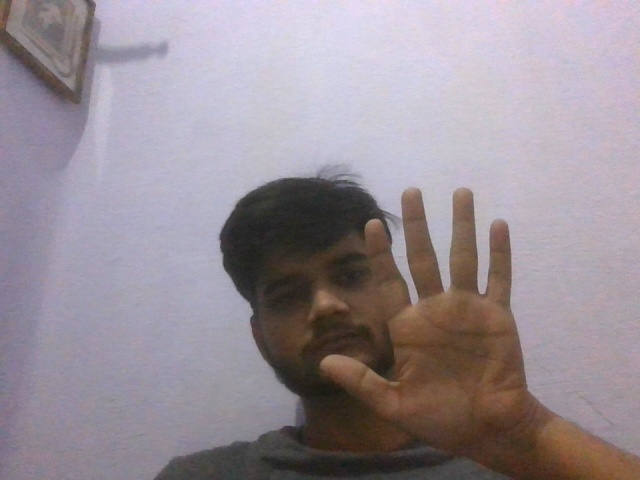hello: (295, 181, 551, 467)
